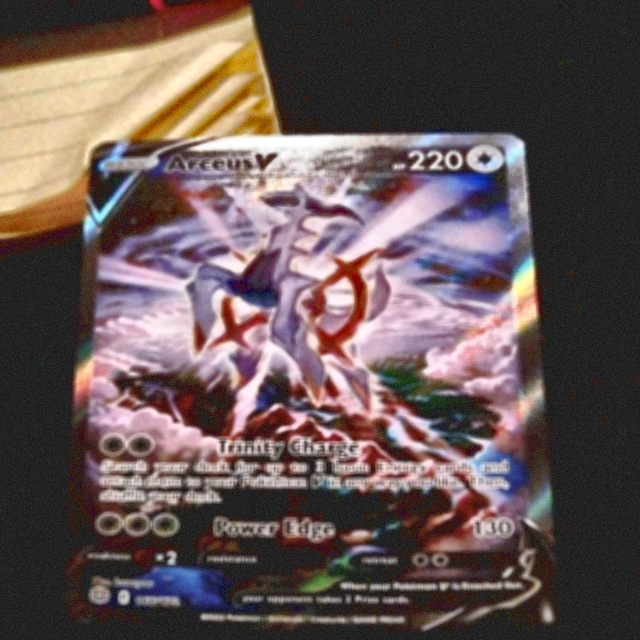card: (62, 132, 559, 629)
